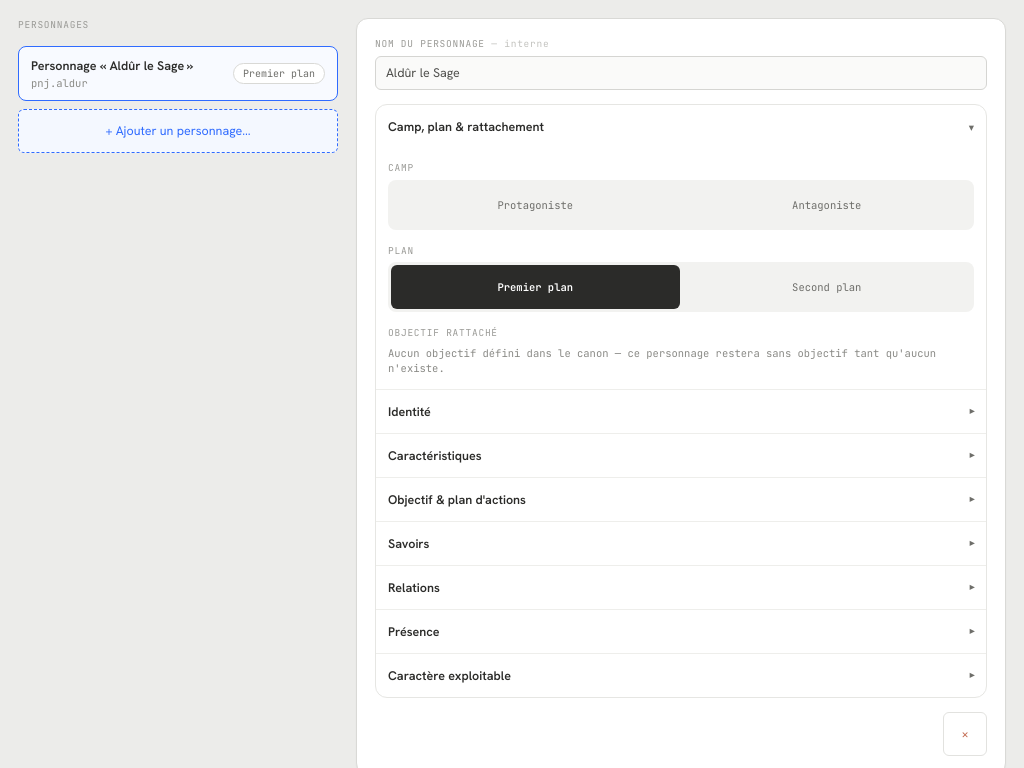
Test case: PanneauPersonnages - retrait › retirer le dernier personnage bascule sur l etat vide, le focus retombe sur + Ajouter (pas document.body)
Click the button named "Retirer le personnage « Aldûr le Sage »". click: (965, 734)
box: [943,712,987,756]
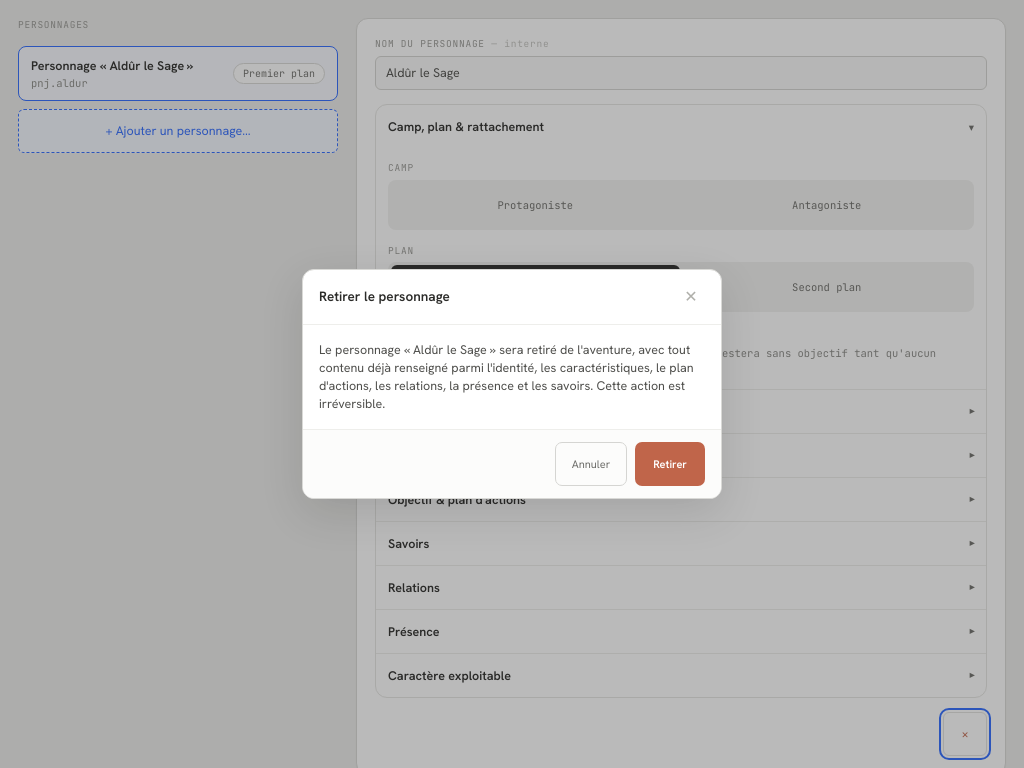
Click the button "Retirer". click: (670, 464)
box: [635,442,705,486]
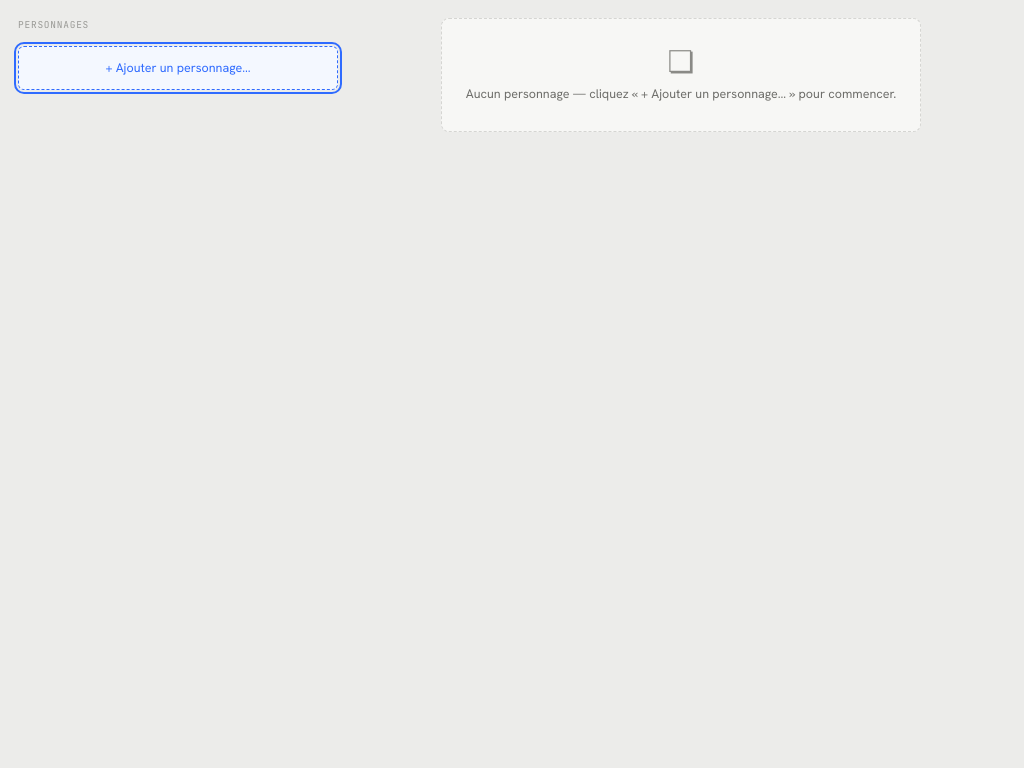
Now the dialog is gone
Now the text "Aucun personnage — cliquez « + Ajouter un personnage… » pour commencer." is shown, box [466,85,896,103]
